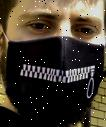with_mask: (2, 2, 106, 127)
